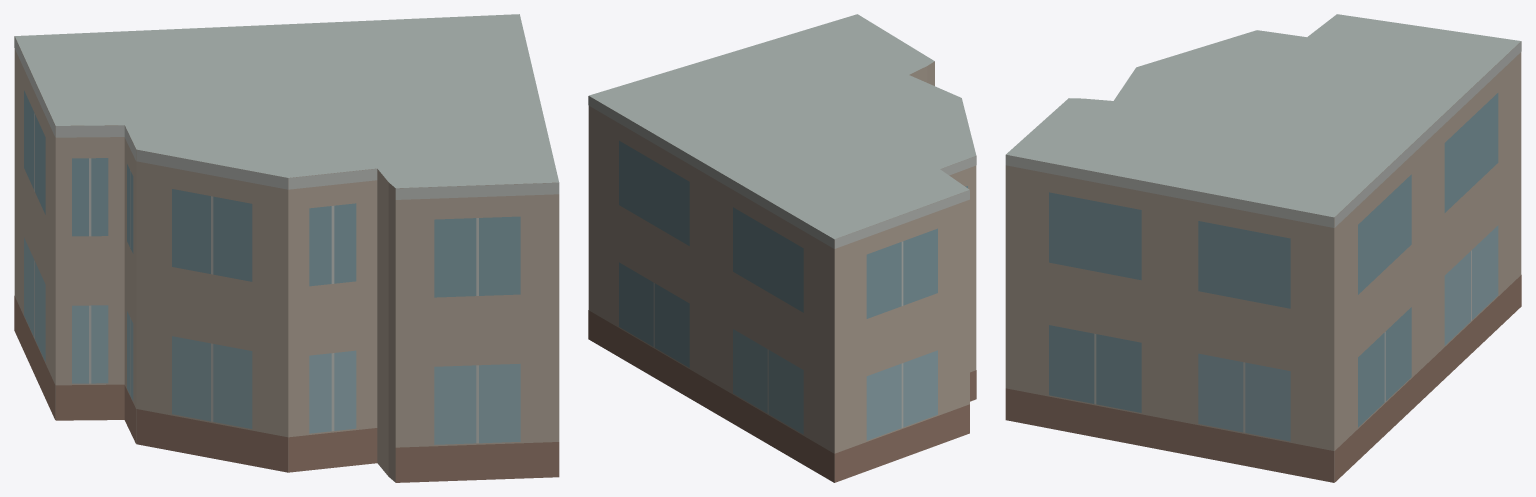
Rendered from survey-upis-32633022.glb.
3 renders of one model, left to right at view 1: azimuth 30°, elevation 25°; view 2: azimuth 150°, elevation 25°; view 3: azimuth 270°, elevation 25°, orthographic. The views are drawn at different scales.
Parts seen in each view (by area): view 1: survey-upis-32633022.tmp; view 2: survey-upis-32633022.tmp; view 3: survey-upis-32633022.tmp.
Boxes of the visible parts, left/top/right/bottom form: survey-upis-32633022.tmp: left=14, top=14, right=559, bottom=482; survey-upis-32633022.tmp: left=588, top=14, right=976, bottom=482; survey-upis-32633022.tmp: left=1005, top=14, right=1521, bottom=482.
Size of the model in its own units: 10.04 by 6.1 by 10.75.
